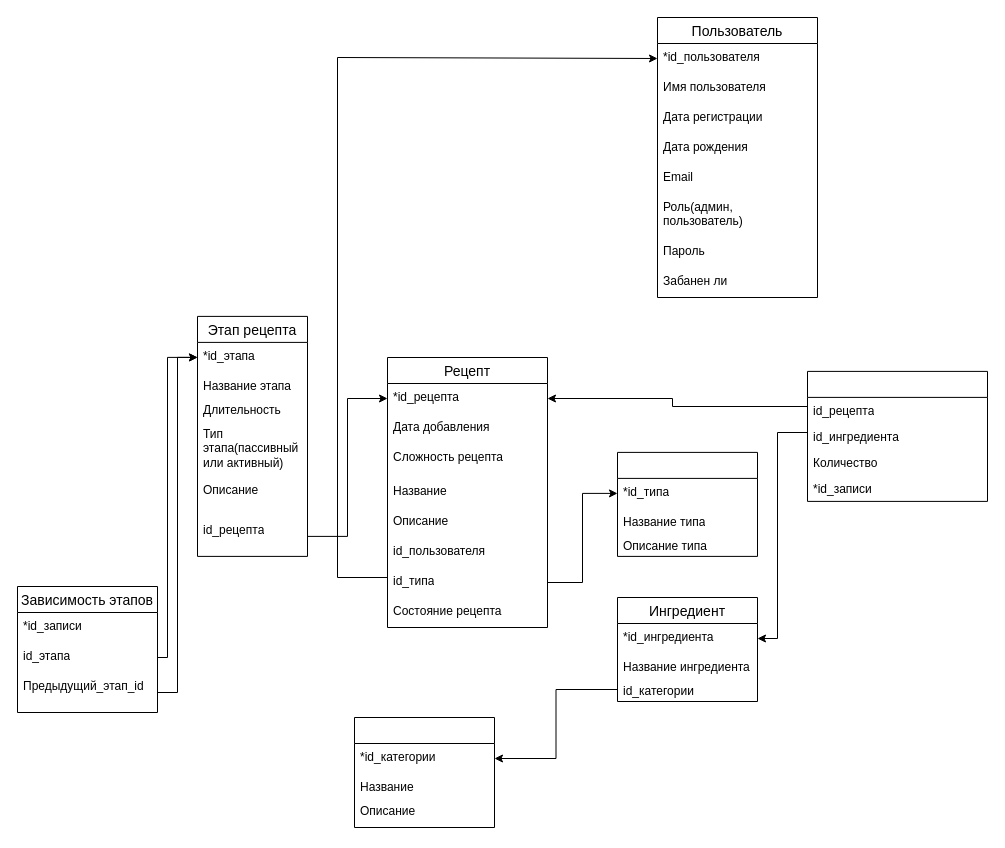
This 1005x848 diagram has some shape labels left out. The box of each missing label's shape, as (x1, y1, x2, y2) in pixels:
Категория: (354, 716, 494, 828)
Рецепт - Ингредиент: (806, 370, 988, 501)
Тип рецепта: (616, 451, 758, 556)
